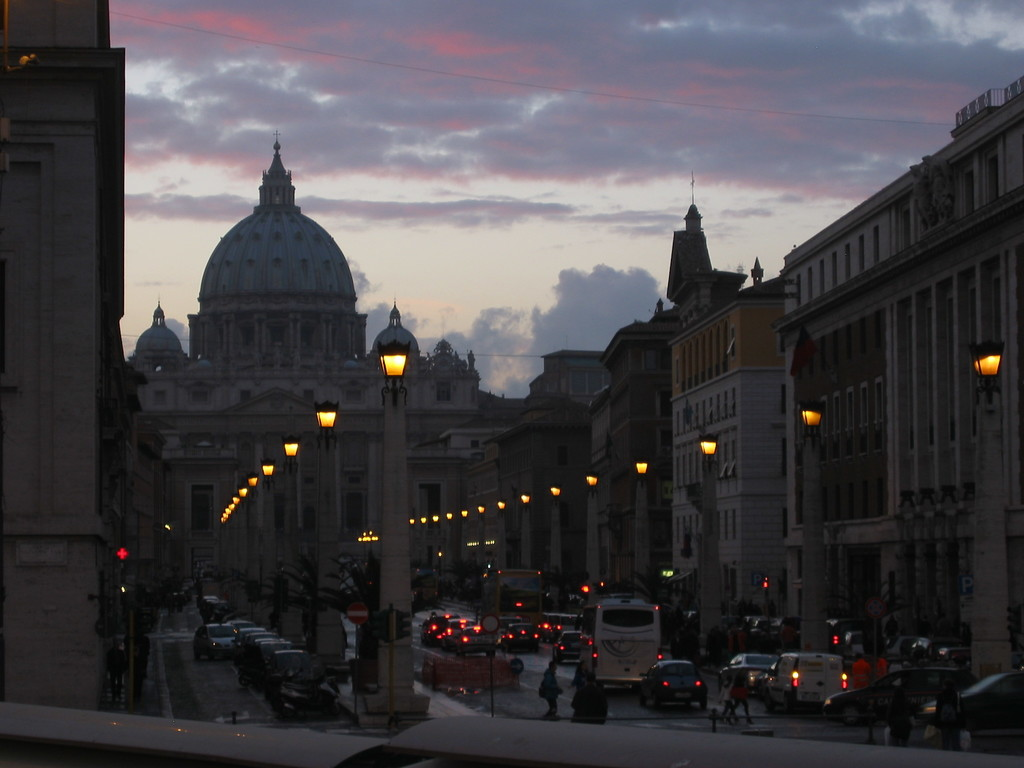Car: (193, 593, 341, 720), (826, 668, 980, 730), (429, 616, 584, 669), (908, 682, 1023, 744), (646, 658, 704, 707), (720, 654, 773, 690)
